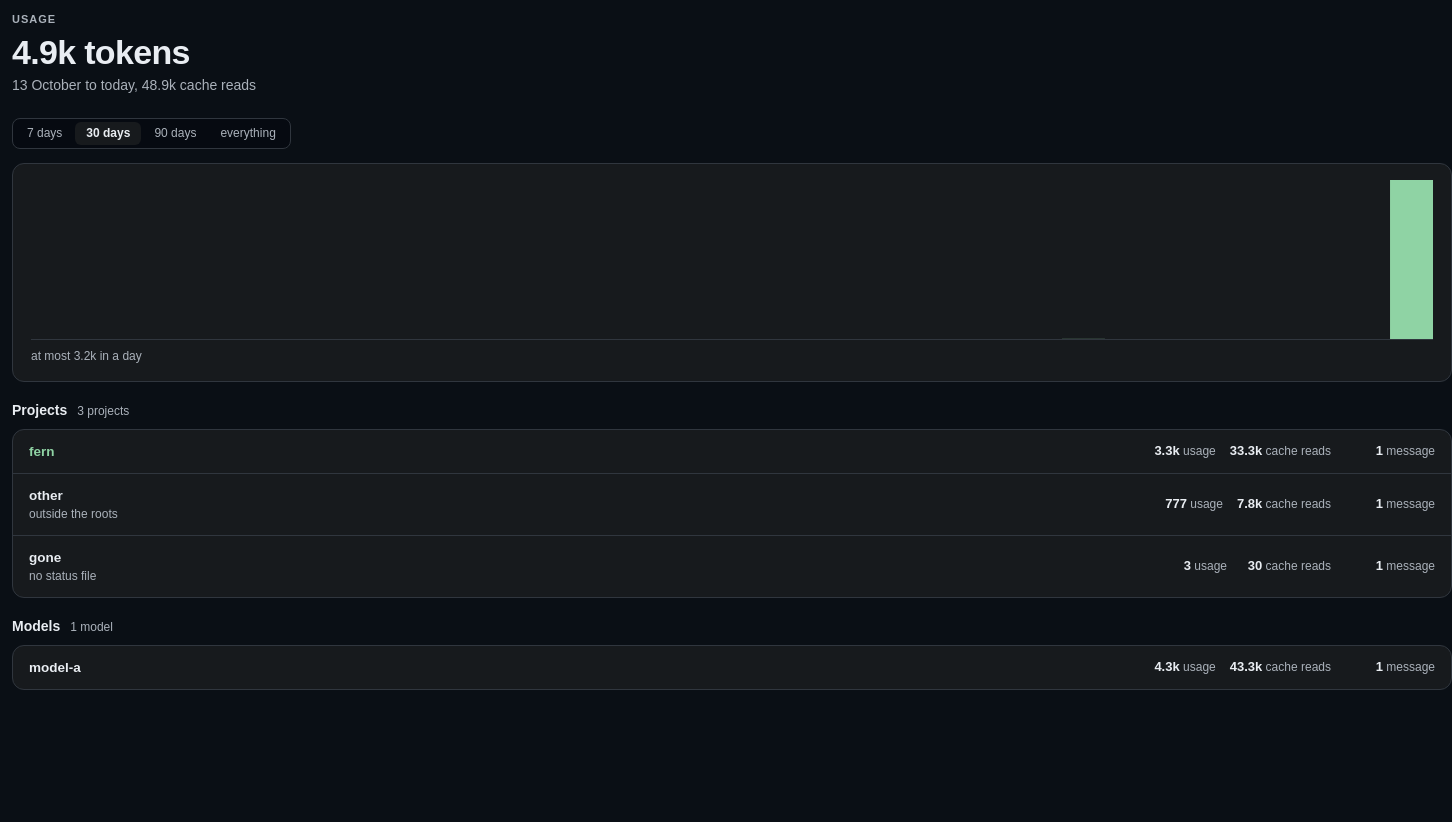
Scenario: the everything period without any usage prints no date range
Expected: the heading "4.9k tokens" is shown, [12,34,190,71]
Click the button "everything": click(248, 133) [209,122,287,145]
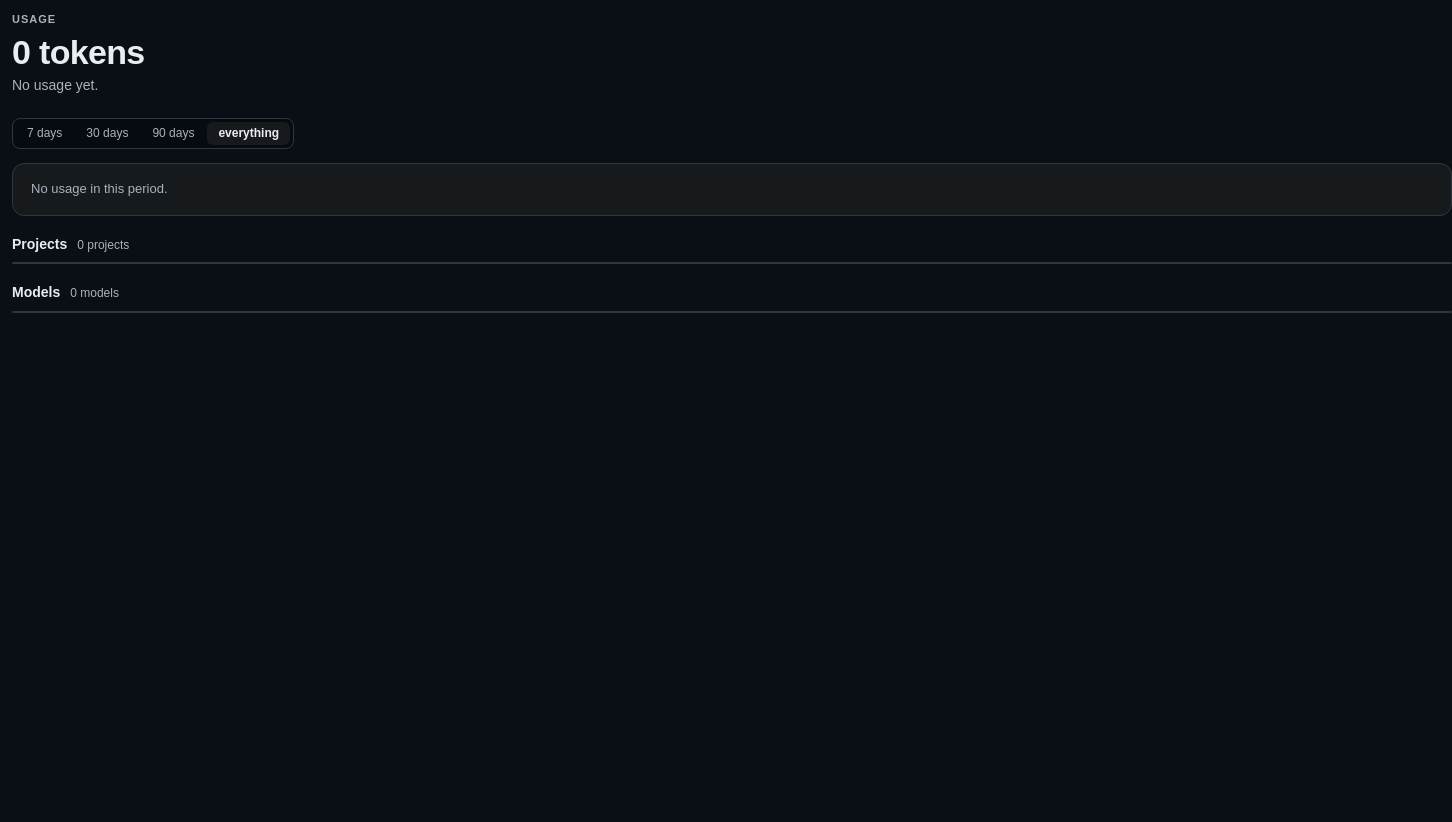
Expected: the text "No usage yet." is shown, [12,77,98,93]
